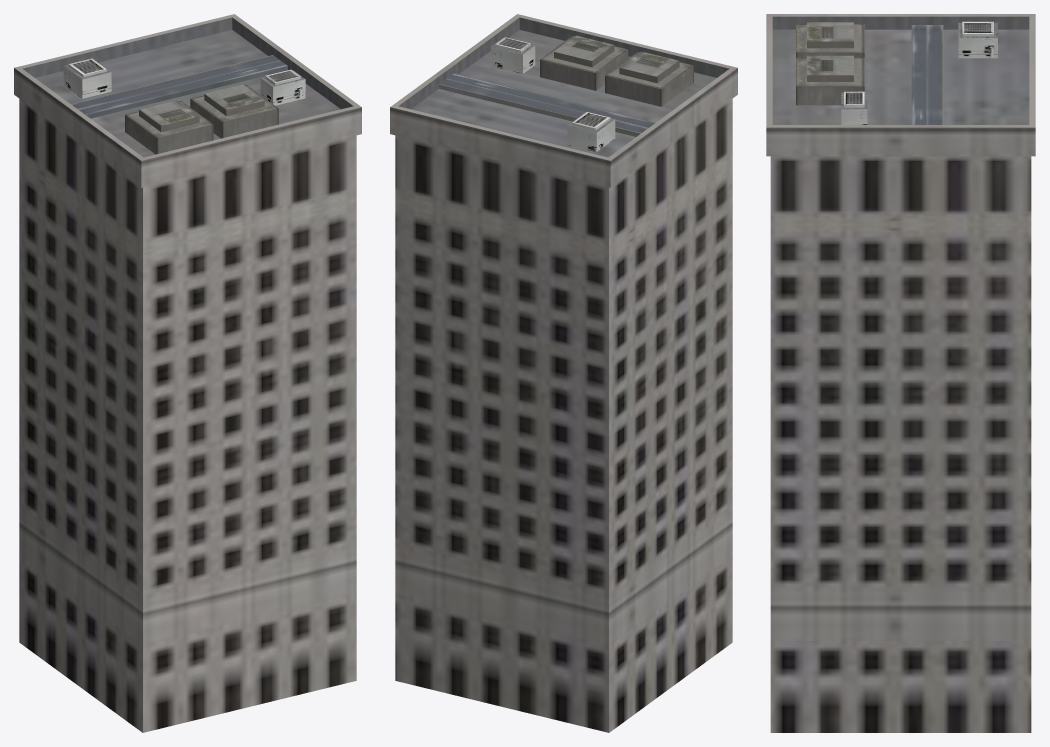
The picture shows the model from 3 angles, left to right: view 1: azimuth 30°, elevation 25°; view 2: azimuth 150°, elevation 25°; view 3: azimuth 270°, elevation 25°; orthographic projection. The views are drawn at different scales.
Size of the model in its own units: 0.2517 by 0.639 by 0.2517.
1 material, 1 textured.
